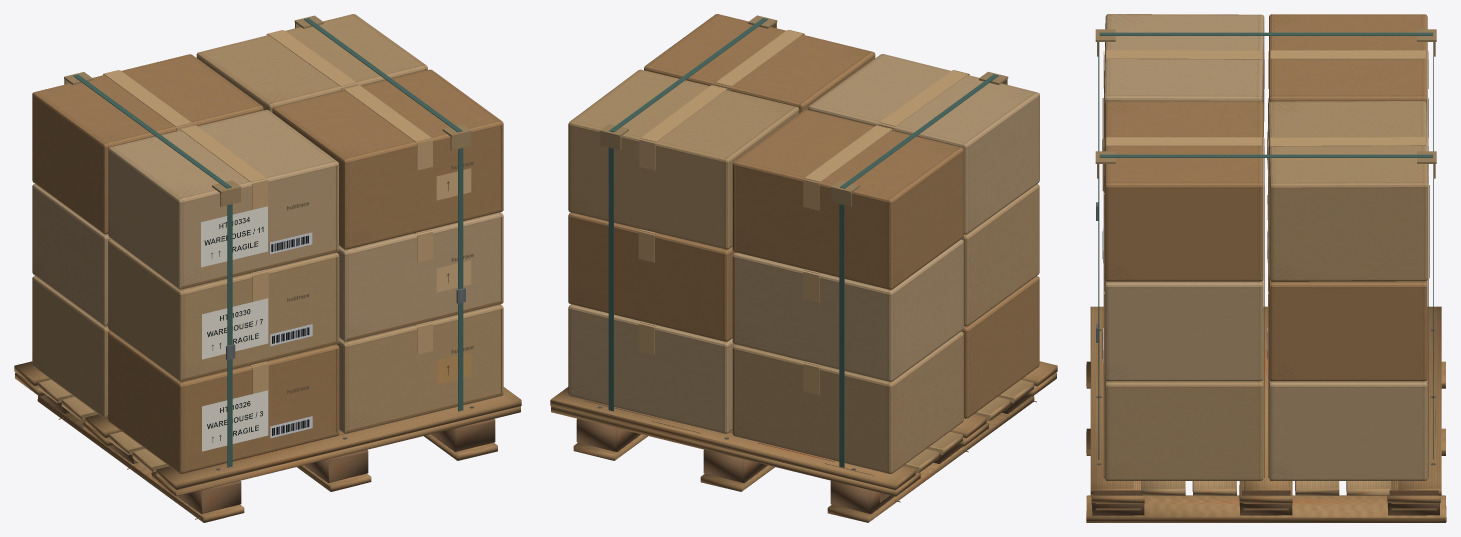
The model's file is pallet-cargo.glb.
3 views of the same model, side by side, from view 1: azimuth 30°, elevation 25°; view 2: azimuth 150°, elevation 25°; view 3: azimuth 270°, elevation 25° (orthographic). The views are drawn at different scales.
Visible parts, largest first — view 1: hubtrace_PalletizedCartons_carton_liner_variant_0, hubtrace_PalletizedCartons_carton_liner_variant_1, hubtrace_PalletizedCartons_carton_liner_variant_2, hubtrace_PalletizedCartons_pallet_oak_wood, hubtrace_PalletizedCartons_shipping_label-ink (×3), hubtrace_PalletizedCartons_parcel_packing_tape, hubtrace_PalletizedCartons_pallet_nails, hubtrace_PalletizedCartons_pallet_wood_grain, hubtrace_PalletizedCartons_corrugated_cardboard_edge, hubtrace_PalletizedCartons_handling_mark-ink (×2), hubtrace_PalletizedCartons_pallet_fresh_sawn_wood, hubtrace_PalletizedCartons_kraft_corner_protector; view 2: hubtrace_PalletizedCartons_carton_liner_variant_0, hubtrace_PalletizedCartons_carton_liner_variant_2, hubtrace_PalletizedCartons_carton_liner_variant_1, hubtrace_PalletizedCartons_pallet_oak_wood, hubtrace_PalletizedCartons_parcel_packing_tape, hubtrace_PalletizedCartons_pallet_nails, hubtrace_PalletizedCartons_pallet_wood_grain, hubtrace_PalletizedCartons_pallet_fresh_sawn_wood, hubtrace_PalletizedCartons_kraft_corner_protector, hubtrace_PalletizedCartons_corrugated_cardboard_edge; view 3: hubtrace_PalletizedCartons_carton_liner_variant_0, hubtrace_PalletizedCartons_carton_liner_variant_2, hubtrace_PalletizedCartons_carton_liner_variant_1, hubtrace_PalletizedCartons_pallet_oak_wood, hubtrace_PalletizedCartons_parcel_packing_tape, hubtrace_PalletizedCartons_pallet_nails, hubtrace_PalletizedCartons_pallet_wood_grain, hubtrace_PalletizedCartons_pallet_fresh_sawn_wood, hubtrace_PalletizedCartons_corrugated_cardboard_edge, hubtrace_PalletizedCartons_kraft_corner_protector.
Boxes of the visible parts, x1,y1,x2,y2 form: hubtrace_PalletizedCartons_carton_liner_variant_0: [32, 54, 503, 473]; hubtrace_PalletizedCartons_carton_liner_variant_1: [32, 14, 503, 433]; hubtrace_PalletizedCartons_carton_liner_variant_2: [32, 110, 503, 341]; hubtrace_PalletizedCartons_pallet_oak_wood: [14, 361, 521, 522]; hubtrace_PalletizedCartons_shipping_label-ink (×3): [201, 206, 268, 451]; hubtrace_PalletizedCartons_parcel_packing_tape: [103, 30, 432, 393]; hubtrace_PalletizedCartons_pallet_nails: [73, 18, 474, 470]; hubtrace_PalletizedCartons_pallet_wood_grain: [40, 387, 518, 519]; hubtrace_PalletizedCartons_corrugated_cardboard_edge: [107, 69, 502, 472]; hubtrace_PalletizedCartons_handling_mark-ink (×2): [436, 168, 471, 384]; hubtrace_PalletizedCartons_pallet_fresh_sawn_wood: [38, 379, 168, 472]; hubtrace_PalletizedCartons_kraft_corner_protector: [64, 15, 471, 206]; hubtrace_PalletizedCartons_carton_liner_variant_0: [568, 14, 1039, 418]; hubtrace_PalletizedCartons_carton_liner_variant_2: [568, 54, 1039, 433]; hubtrace_PalletizedCartons_carton_liner_variant_1: [568, 69, 1039, 473]; hubtrace_PalletizedCartons_pallet_oak_wood: [550, 361, 1057, 522]; hubtrace_PalletizedCartons_parcel_packing_tape: [638, 30, 969, 394]; hubtrace_PalletizedCartons_pallet_nails: [597, 18, 998, 470]; hubtrace_PalletizedCartons_pallet_wood_grain: [552, 388, 1036, 513]; hubtrace_PalletizedCartons_pallet_fresh_sawn_wood: [903, 379, 1034, 472]; hubtrace_PalletizedCartons_kraft_corner_protector: [599, 15, 1008, 206]; hubtrace_PalletizedCartons_corrugated_cardboard_edge: [570, 69, 810, 435]; hubtrace_PalletizedCartons_carton_liner_variant_0: [1104, 14, 1427, 381]; hubtrace_PalletizedCartons_carton_liner_variant_2: [1104, 14, 1427, 480]; hubtrace_PalletizedCartons_carton_liner_variant_1: [1104, 101, 1428, 480]; hubtrace_PalletizedCartons_pallet_oak_wood: [1086, 306, 1446, 522]; hubtrace_PalletizedCartons_parcel_packing_tape: [1103, 50, 1428, 275]; hubtrace_PalletizedCartons_pallet_nails: [1096, 32, 1435, 465]; hubtrace_PalletizedCartons_pallet_wood_grain: [1091, 318, 1439, 515]; hubtrace_PalletizedCartons_pallet_fresh_sawn_wood: [1141, 481, 1390, 495]; hubtrace_PalletizedCartons_corrugated_cardboard_edge: [1102, 98, 1429, 477]; hubtrace_PalletizedCartons_kraft_corner_protector: [1095, 29, 1436, 178].
Bounding box in the file's own units: 1.2 × 1.07 × 0.9985.
Materials: 21 (21 with a texture image).
